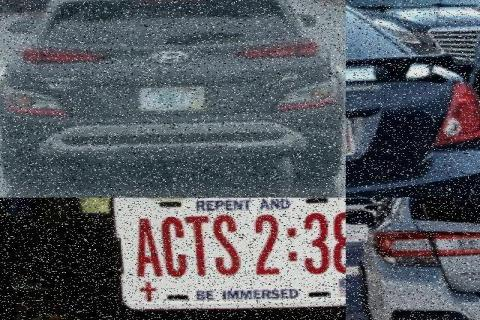LicensePlate: (99, 198, 345, 318), (131, 89, 199, 113)
